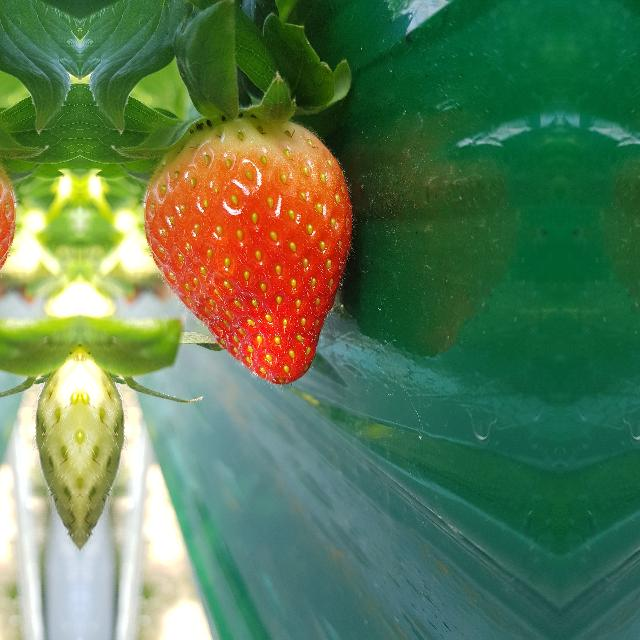Health_100: (142, 115, 354, 387)
